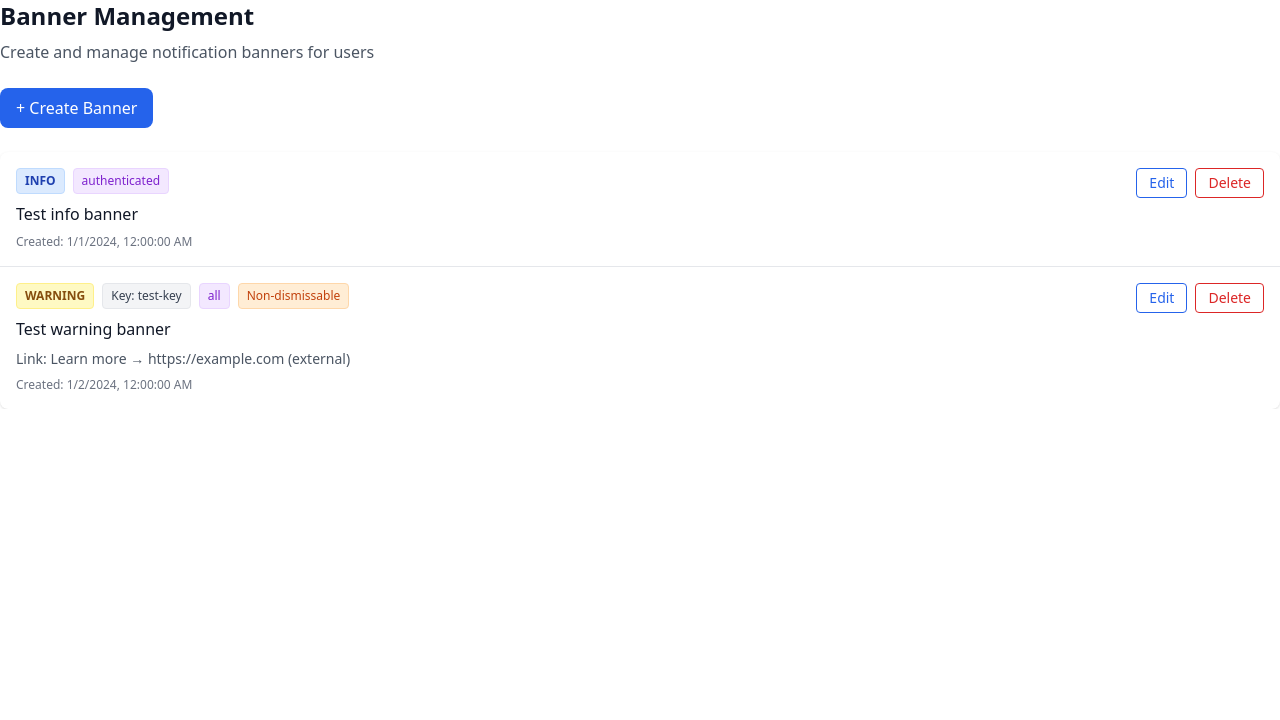
Scenario: AdminBannerManager › should open edit form with existing banner data
expect the text "Test warning banner" is shown: met, box [16,318,171,340]
// Click edit on the warning banner
Step 1. Click the button "Edit" in the row of "Non-dismissable" → [1162, 298], box [1136,283,1188,313]
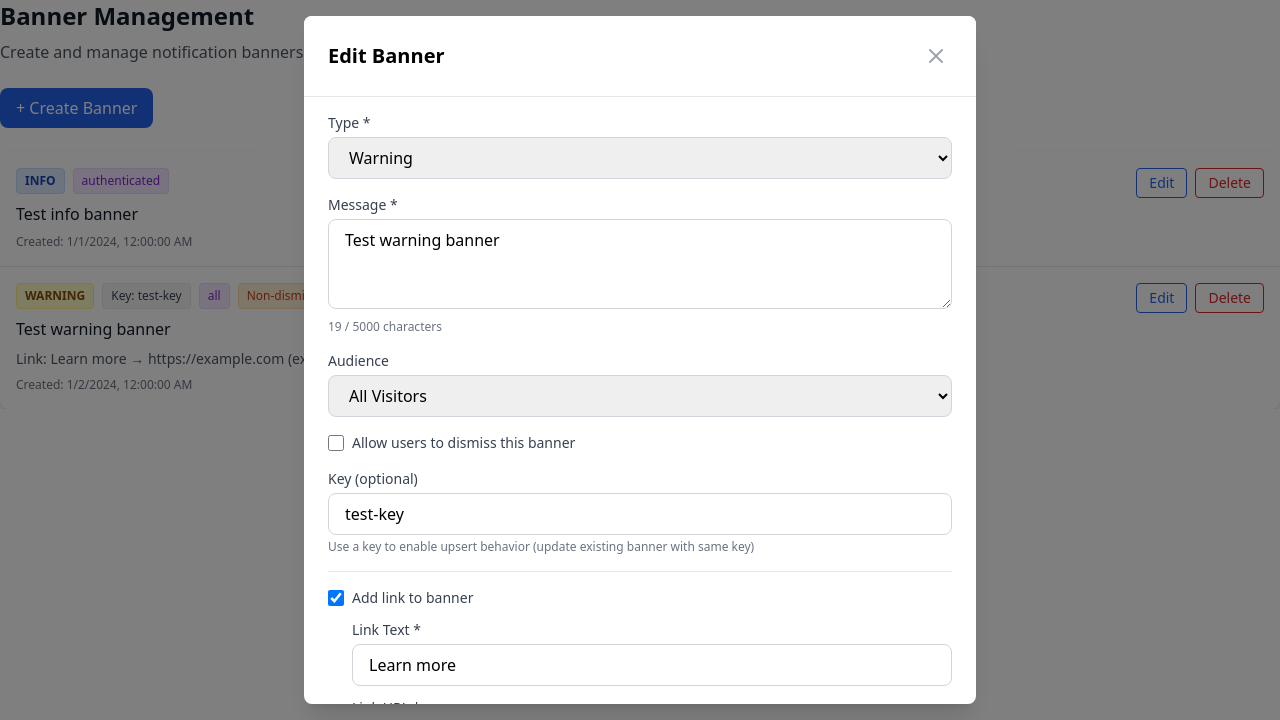
expect the heading "Edit Banner" is shown: met, box [328,42,444,70]
expect the text box labelled "Message *" holds "Test warning banner": met, box [328,219,952,309]
expect the dropdown labelled "Type *" shows "Warning": met, box [328,137,952,179]
